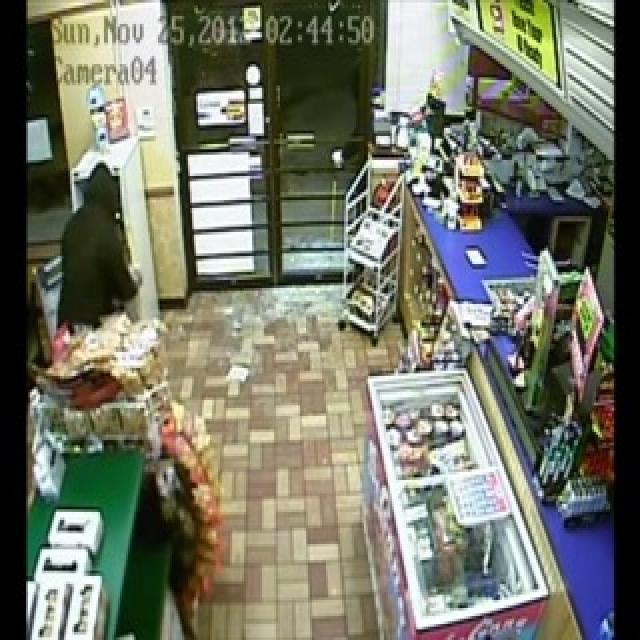thief: (49, 158, 133, 326)
